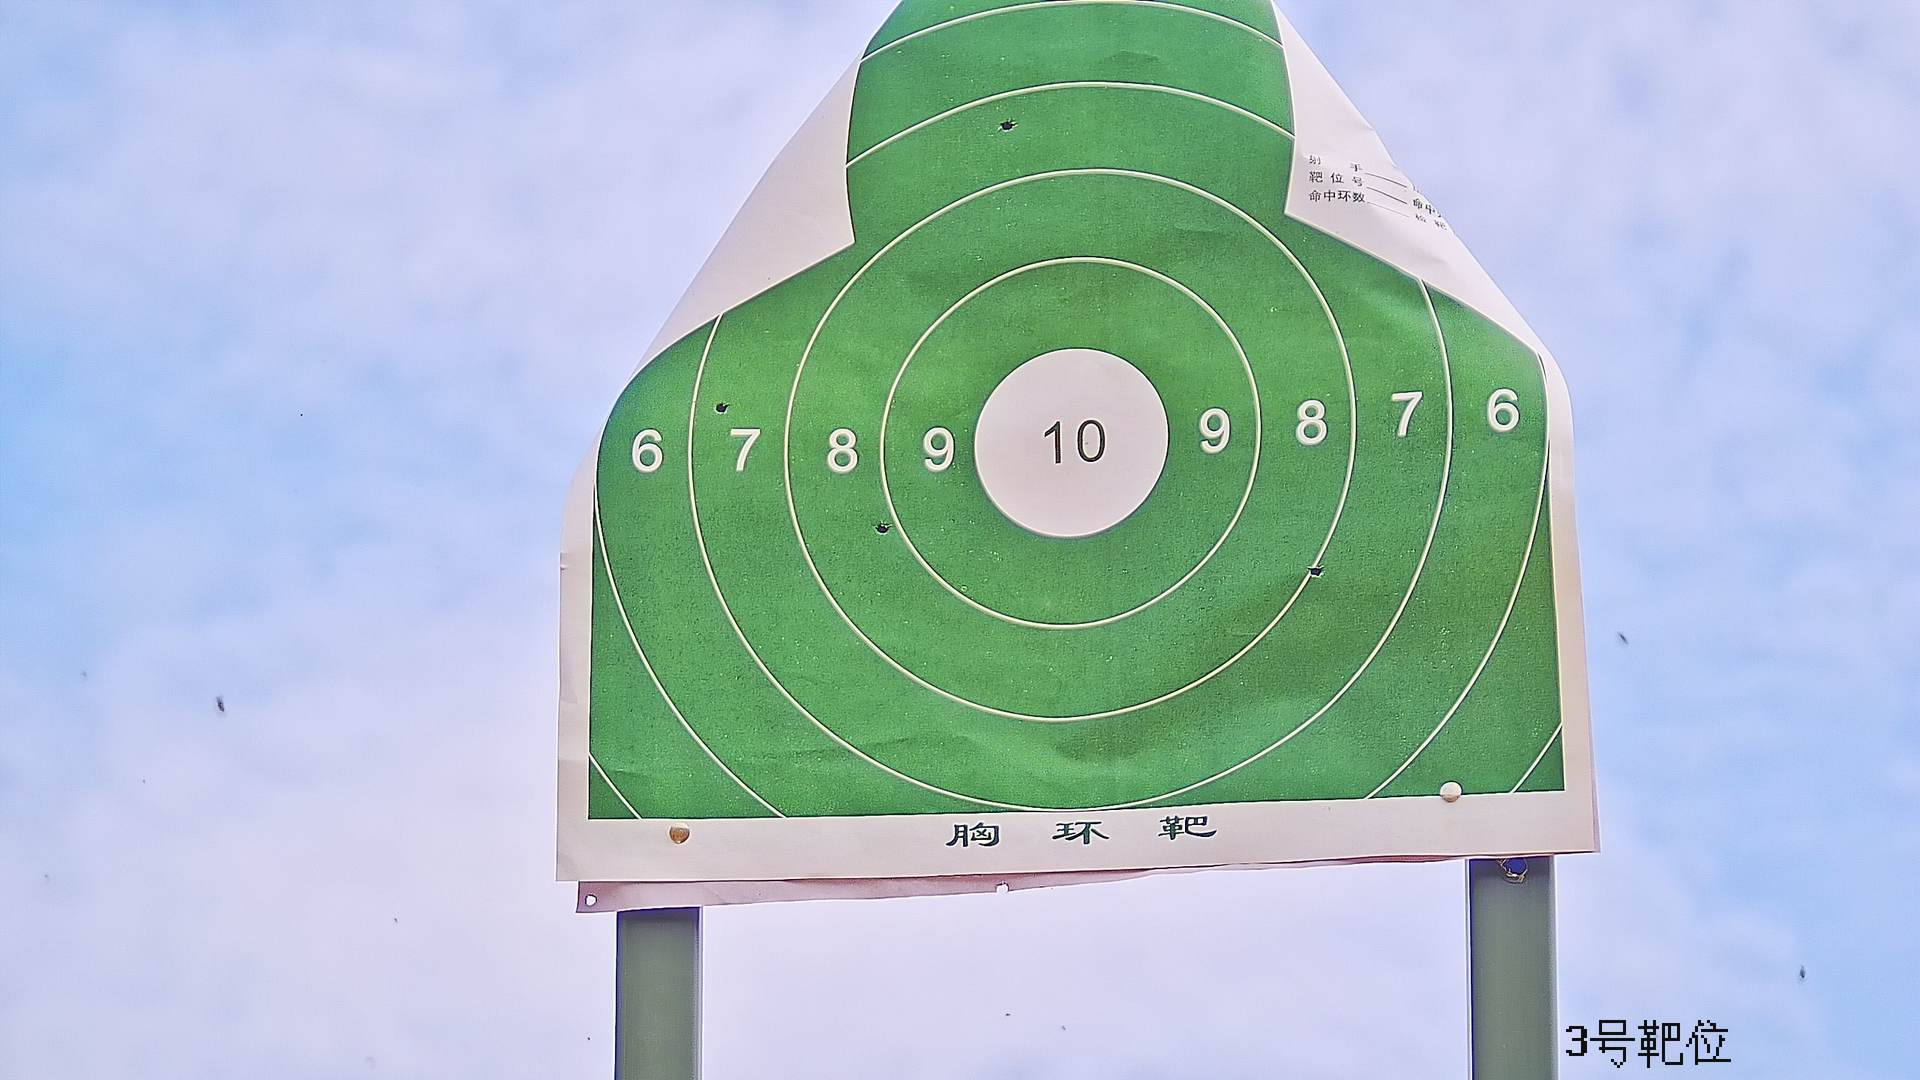hole: (873, 520, 889, 533), (1309, 564, 1325, 578), (1001, 119, 1015, 131), (715, 401, 727, 414)
kernel: (1065, 440, 1075, 444)
target: (584, 1, 1563, 819)
ten: (972, 349, 1170, 545)
